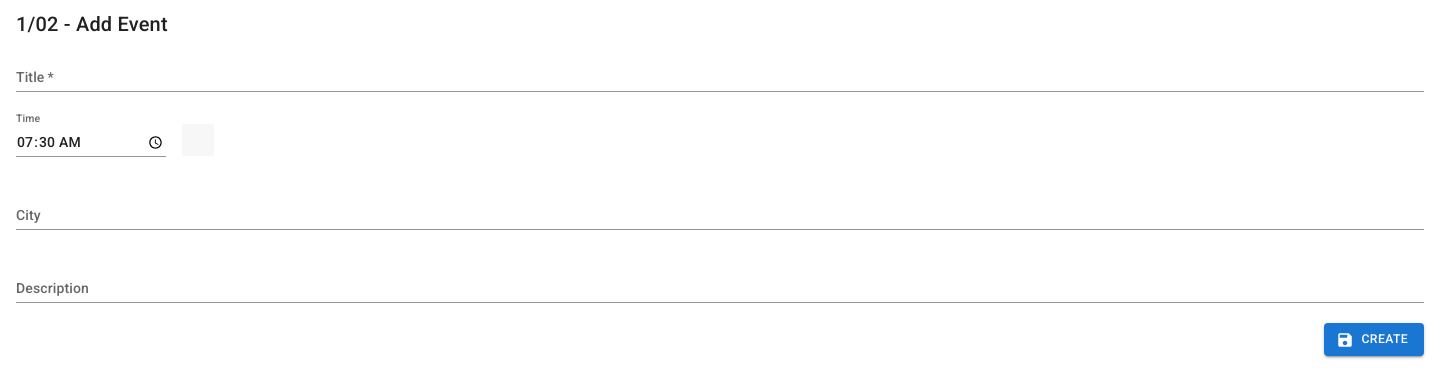
Scenario: Limits more than 30 chars
Type "This string should not be that LONG" into the field with test id "title-test".
click(720, 78); type("This string should not be that LONG")  # box [16, 63, 1424, 92]
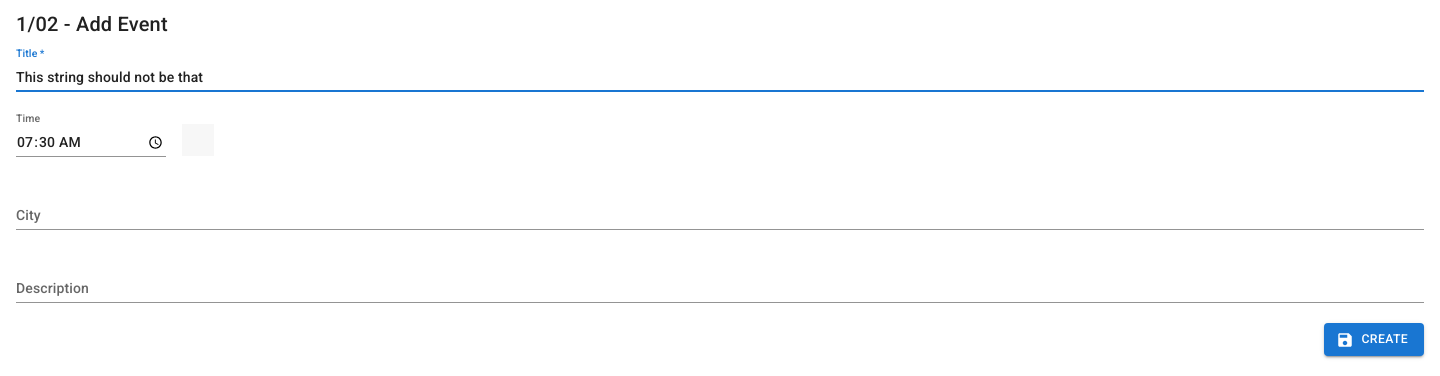
Expected: the field with test id "title-test" holds "This string should not be that", [16, 63, 1424, 92]
